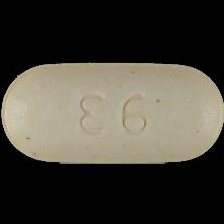0093-1025: (0, 0, 224, 224)
